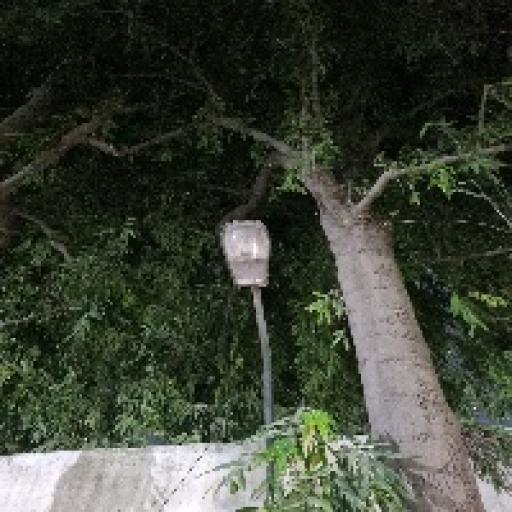Not Working: (202, 206, 301, 314)
